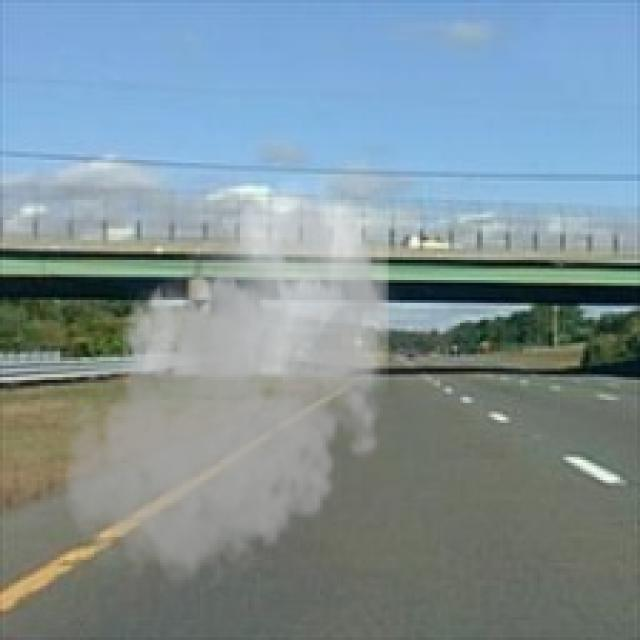Smoke: (57, 175, 403, 600)
